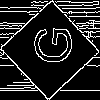G: (25, 25, 73, 65)
